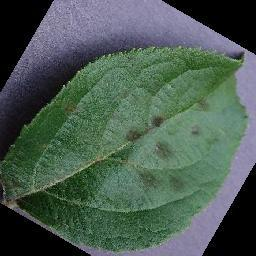apple healthy: (0, 44, 250, 255)
